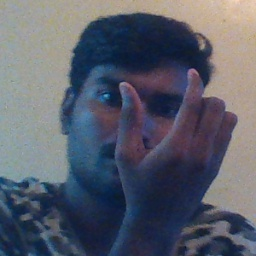U: (104, 67, 237, 204)
